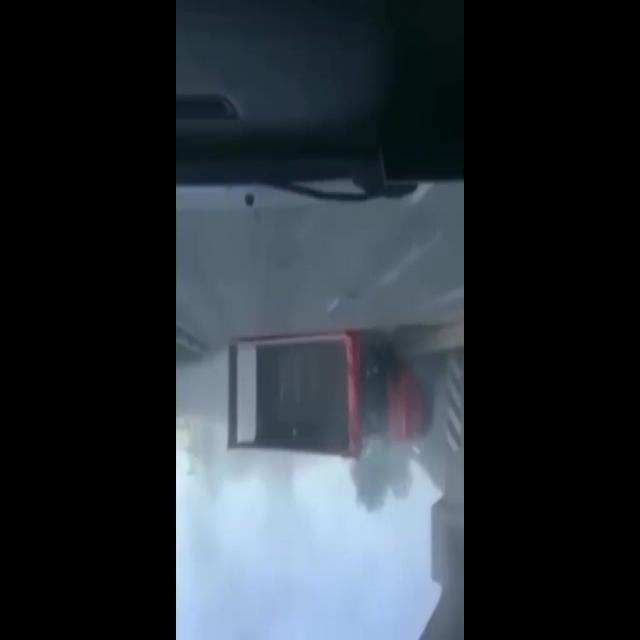severe: (222, 321, 434, 471)
